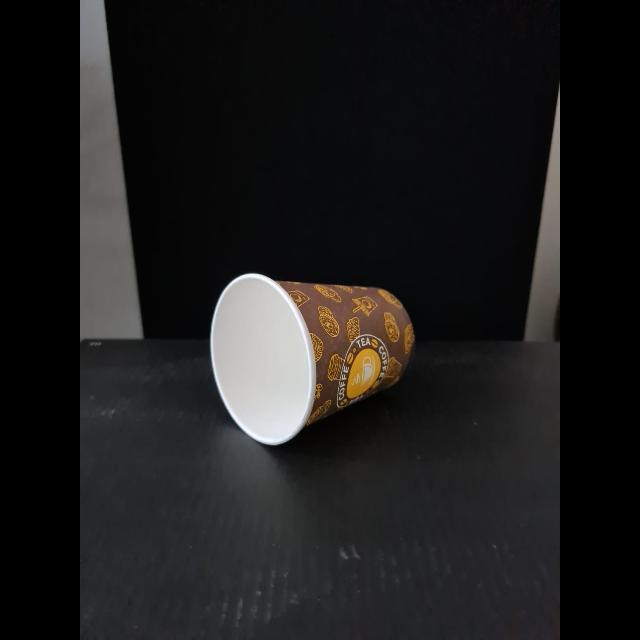trash: (200, 250, 424, 454)
